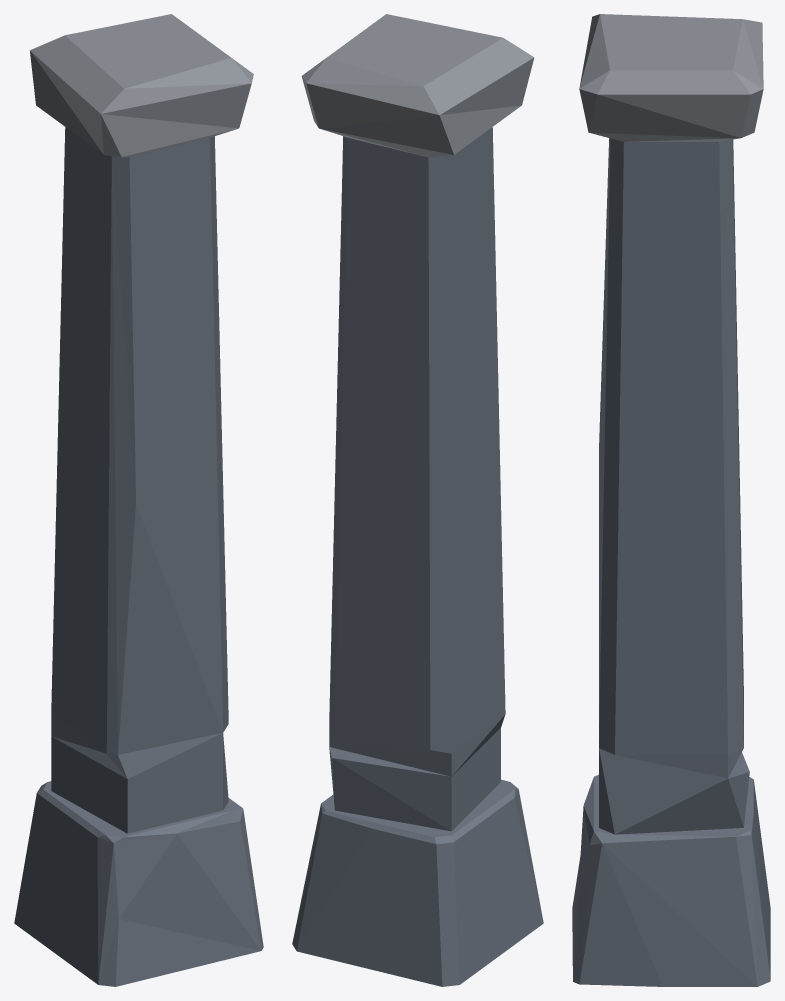
Rendered from Pillar1.fbx.
3 renders of one model, left to right at view 1: azimuth 30°, elevation 25°; view 2: azimuth 150°, elevation 25°; view 3: azimuth 270°, elevation 25°, orthographic. The views are drawn at different scales.
Parts seen in each view (by area): view 1: Pillar1; view 2: Pillar1; view 3: Pillar1.
Boxes of the visible parts, left/top/right/bottom form: Pillar1: left=14, top=14, right=263, bottom=986; Pillar1: left=292, top=14, right=543, bottom=986; Pillar1: left=572, top=14, right=770, bottom=986.
Bounding box in the file's own units: 93.97 × 473 × 93.97.
